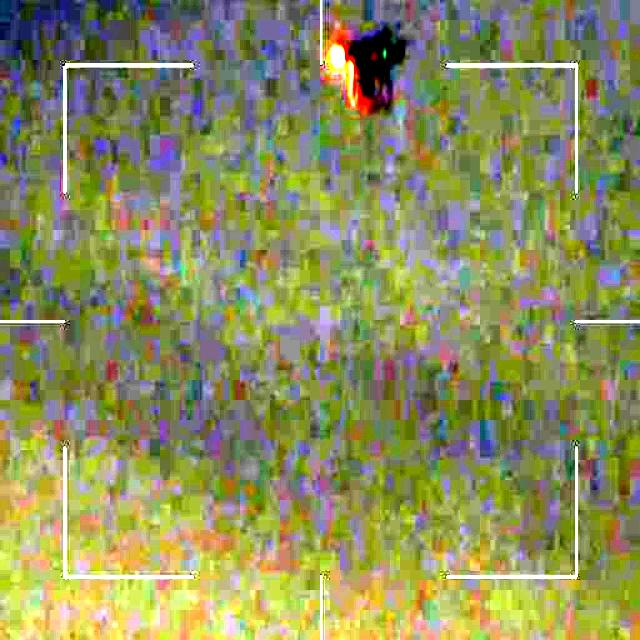bird: (322, 24, 410, 109)
